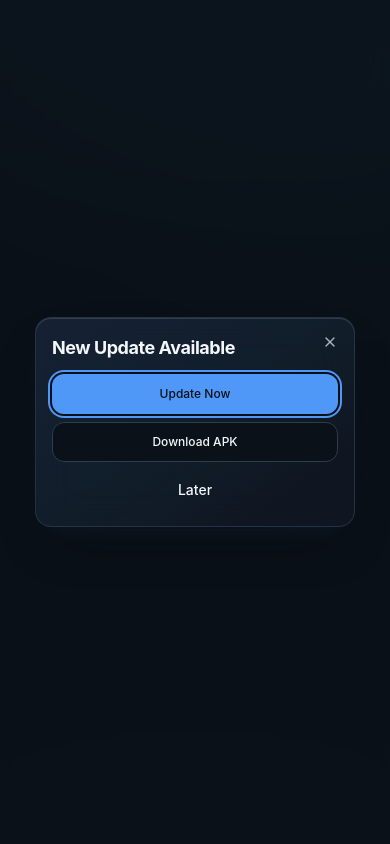
Scenario: AppUpdateManager › shows failures from a background download and keeps retry possible
Check: the heading "New Update Available" is shown, box [52, 337, 235, 358]
Click the button "Download APK". click: click(195, 442)
box: [52, 422, 338, 462]
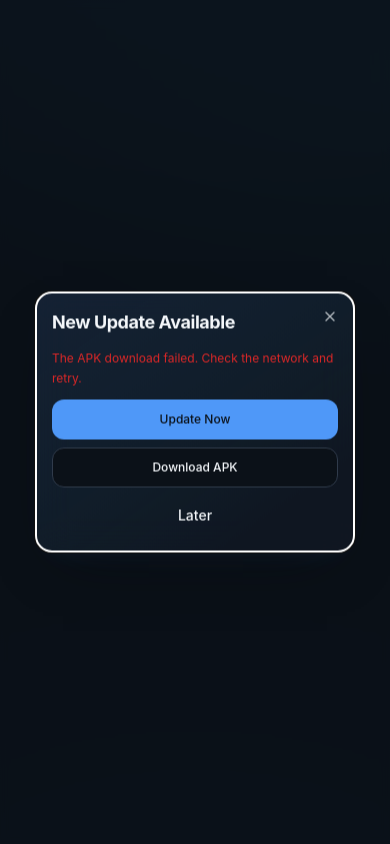
Check: the button "Download APK" is enabled, box [52, 448, 338, 488]
Check: the text "The APK download failed. Check the network and retry." is shown, box [52, 348, 338, 388]
